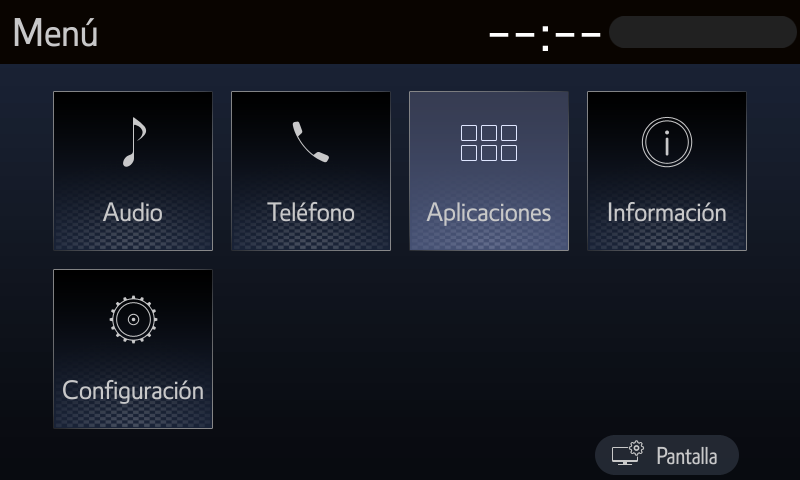touchPart: (402, 90, 574, 254), (50, 90, 220, 254), (583, 90, 751, 255), (228, 88, 393, 254), (51, 266, 214, 433), (584, 427, 741, 475)
untouchPart: (473, 7, 796, 55), (8, 15, 110, 45)
